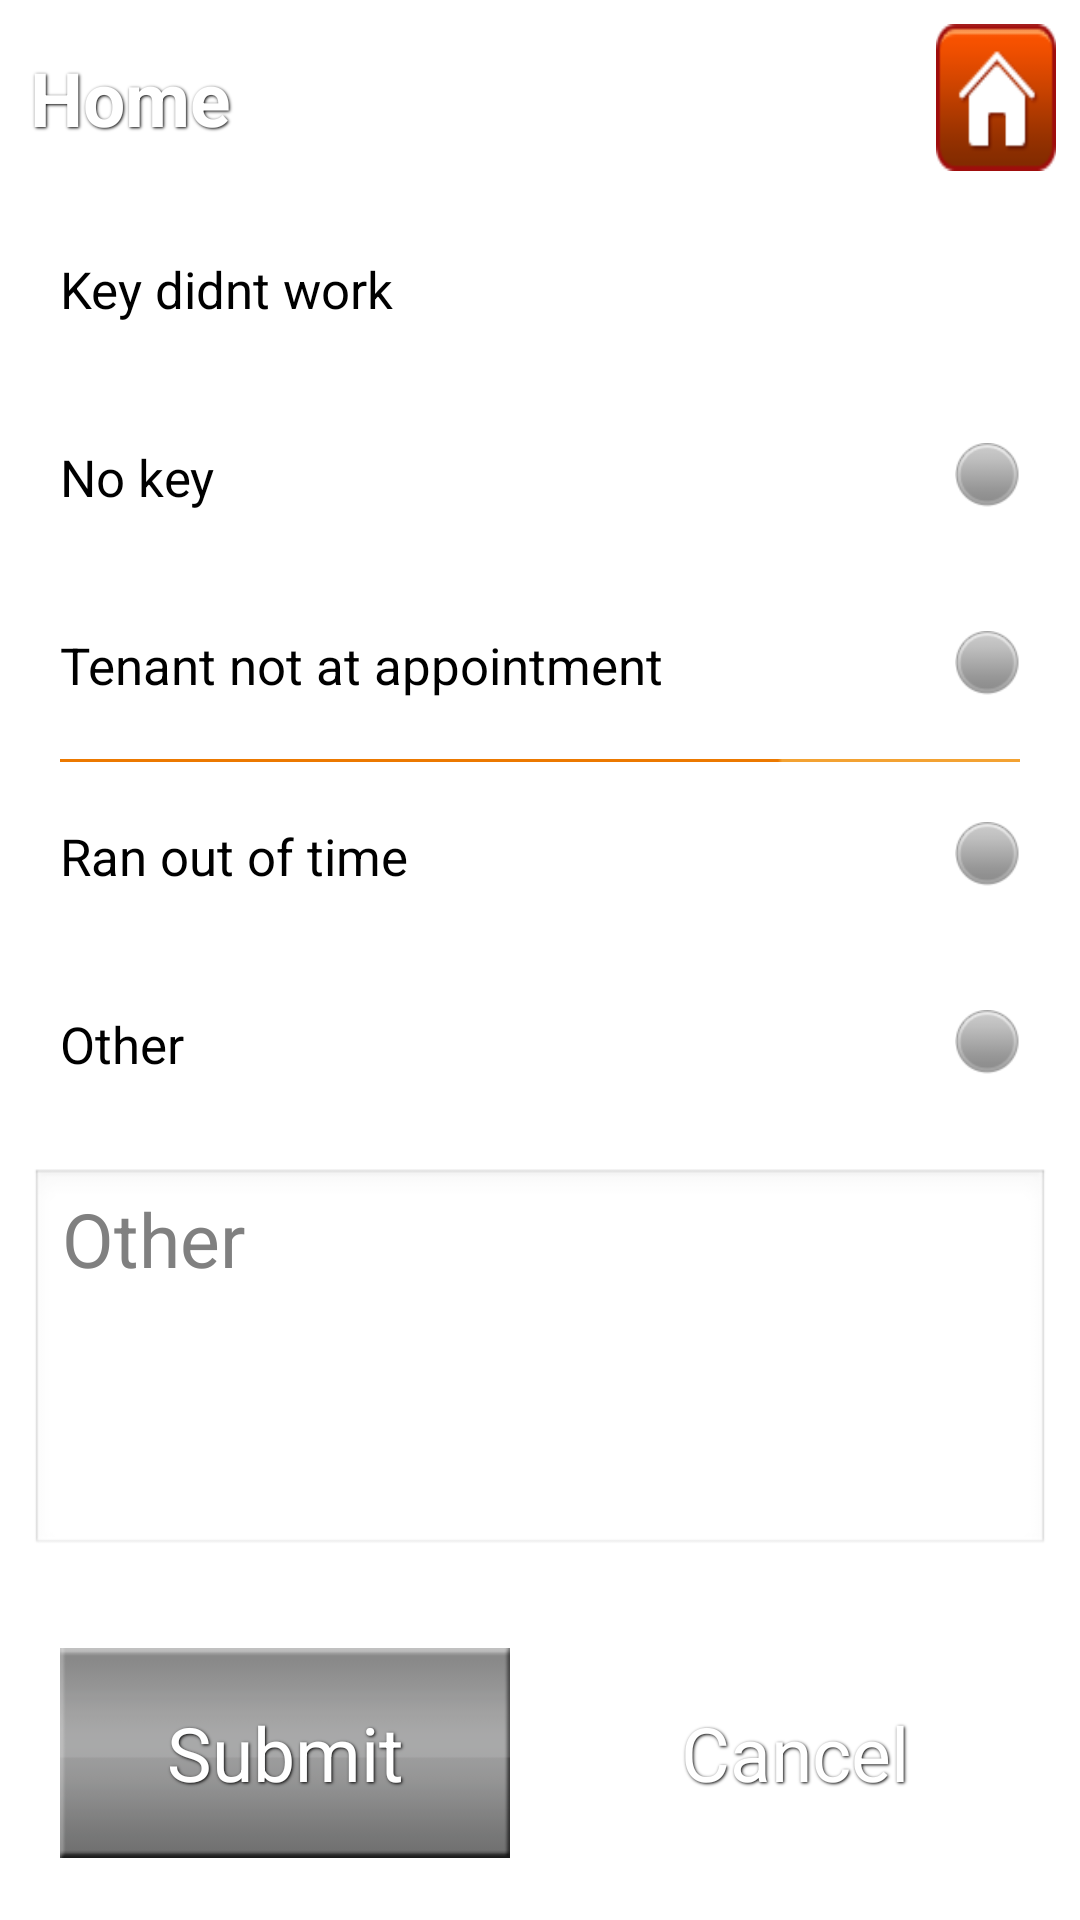

Where to tap for icons on this 1080*1920 app screen, as (x,y):
radio desel: (987,474), (987,662), (987,853), (987,1041)
